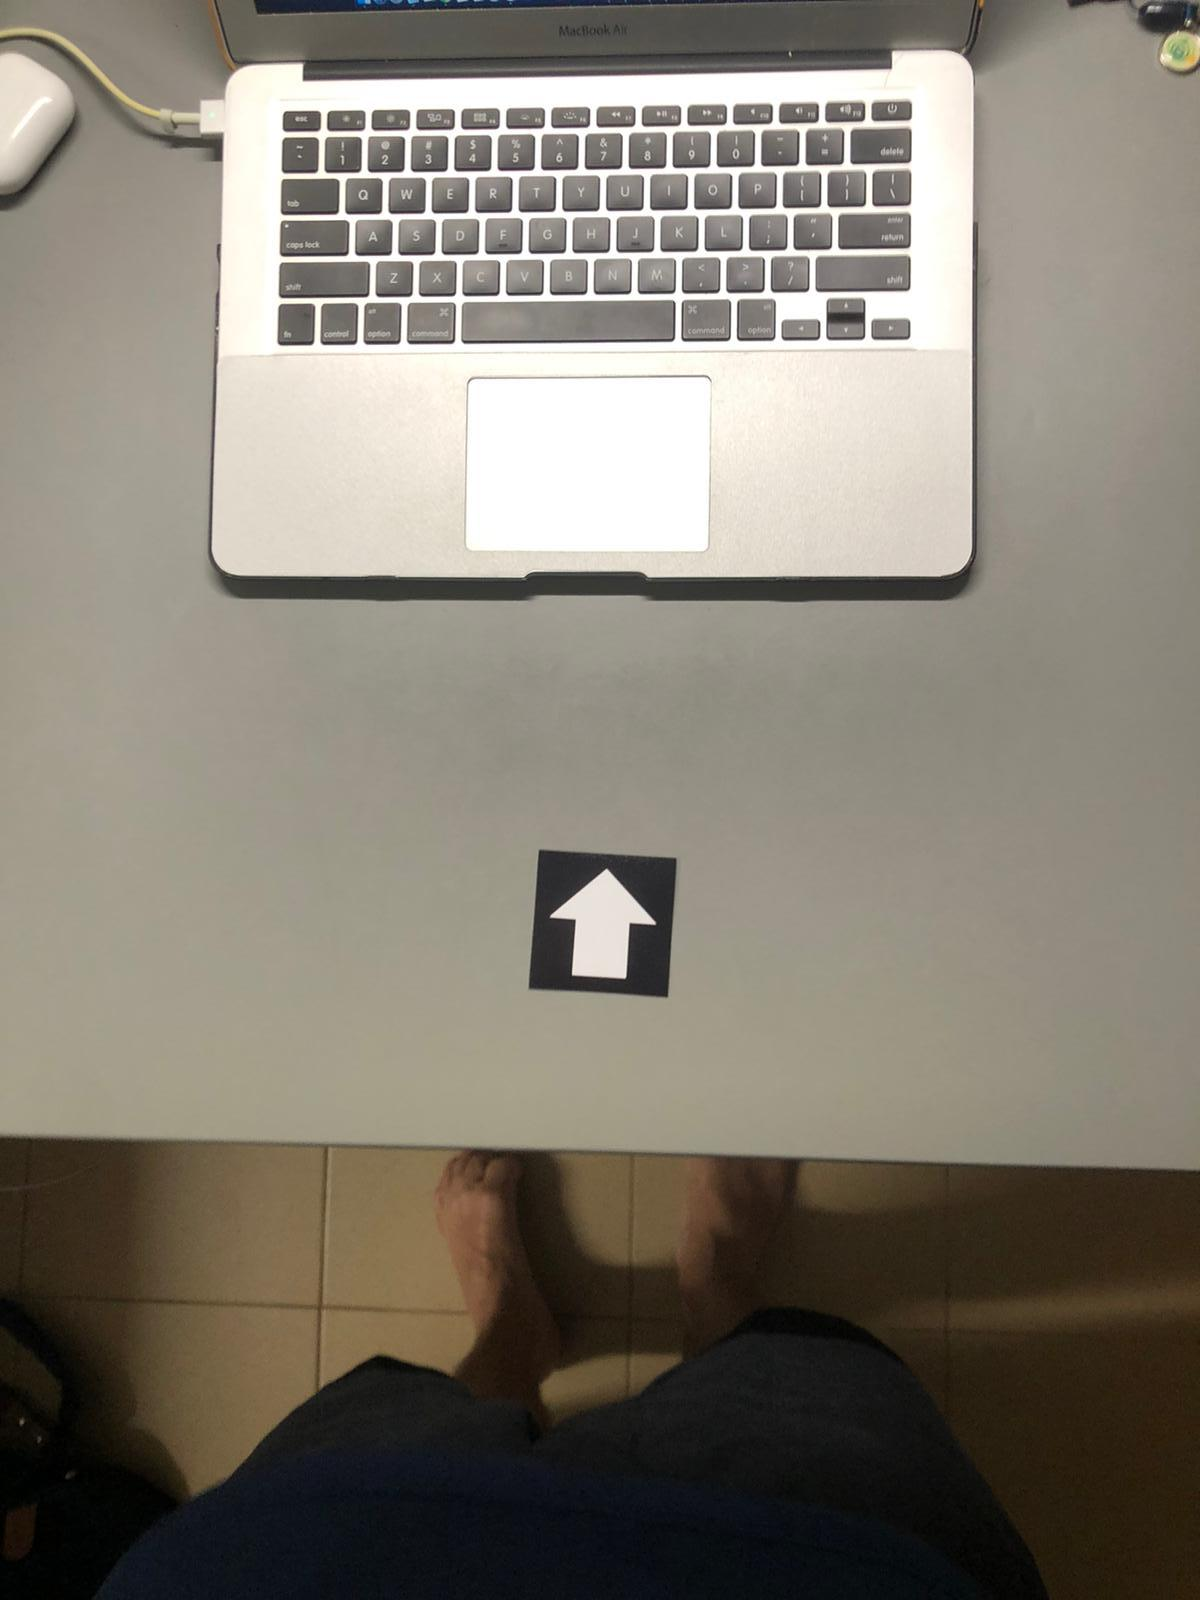Top Arrow: (539, 857, 673, 995)
